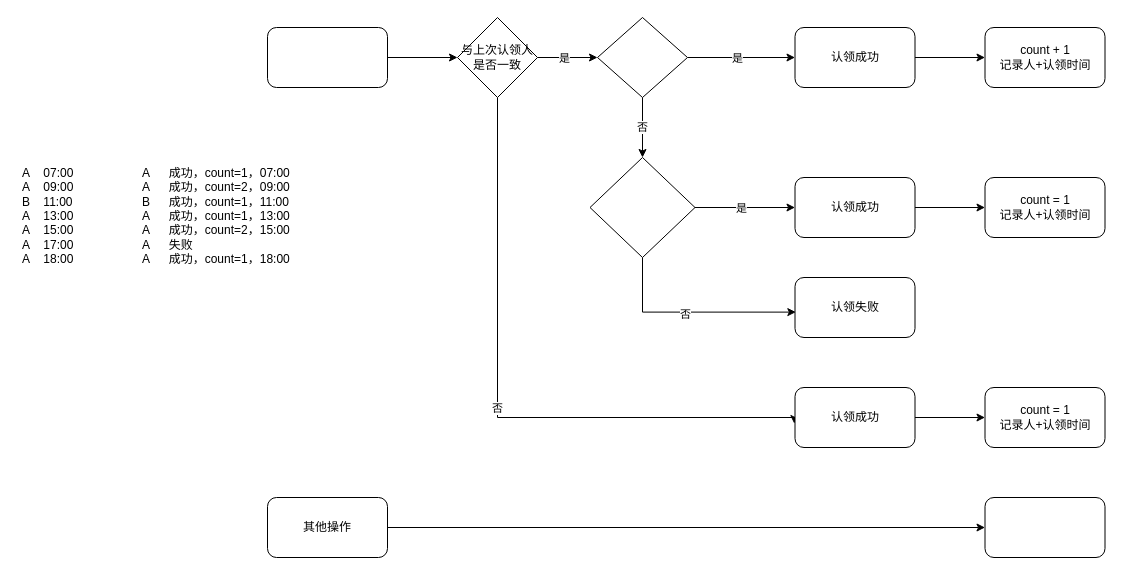
Image size: 1122x575. Some labels were removed from this diagram. Each missing label, with the centre of its shape:
"(当前时间-上次认领时间) ≥ 3" belongs at (642,207).
"count < 2" belongs at (642,57).
"count = 0 清除" belongs at (1044,527).
"认领" belongs at (327,57).
